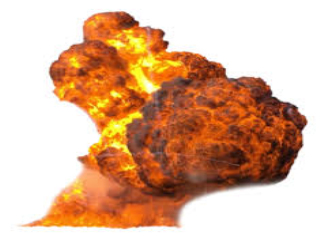fire: (41, 21, 303, 224)
smoke: (131, 72, 313, 192)
